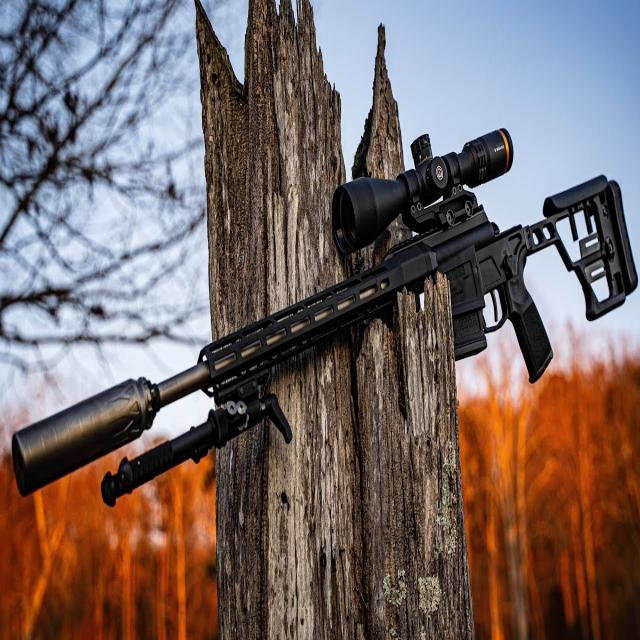Rifle: (12, 129, 640, 508)
